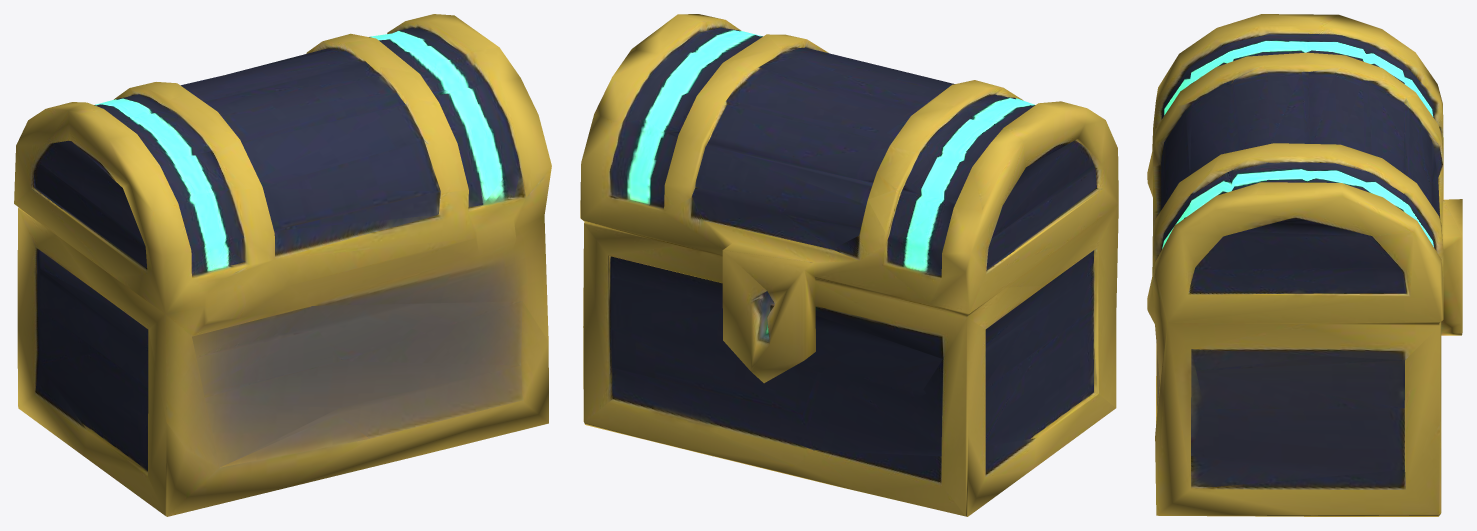
The model's file is chest_tripo.glb.
3 views of the same model, side by side, from view 1: azimuth 30°, elevation 25°; view 2: azimuth 150°, elevation 25°; view 3: azimuth 270°, elevation 25° (orthographic). The views are drawn at different scales.
Parts seen in each view (by area): view 1: chest_tripo; view 2: chest_tripo; view 3: chest_tripo.
Boxes of the visible parts, bbox=[...] form: chest_tripo: bbox=[14, 14, 551, 516]; chest_tripo: bbox=[580, 14, 1118, 516]; chest_tripo: bbox=[1147, 14, 1462, 516].
Size of the model in its own units: 1.15 by 0.964 by 0.847.
Materials: 1 (1 with a texture image).
